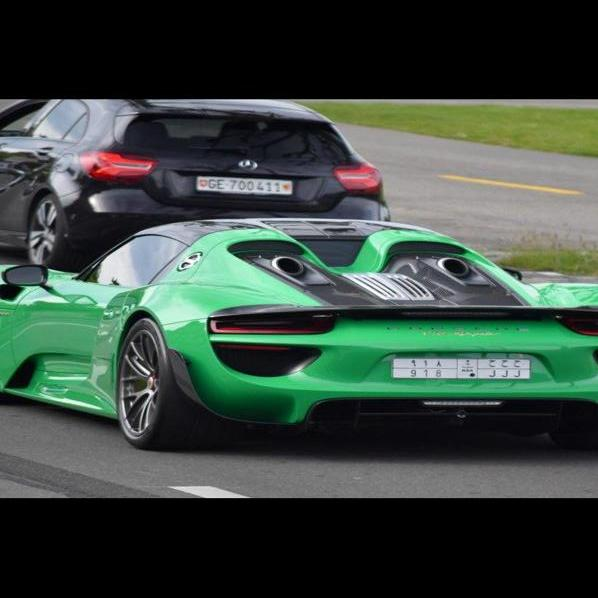numberplate: (391, 355, 533, 382)
